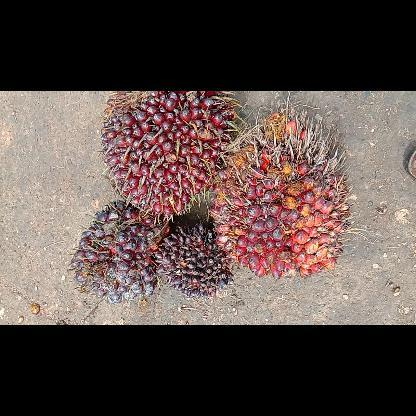Kurang masak: (98, 90, 234, 224), (66, 199, 168, 303)
TBS abnormal: (155, 223, 237, 301)
TBS masak: (208, 112, 352, 280)
